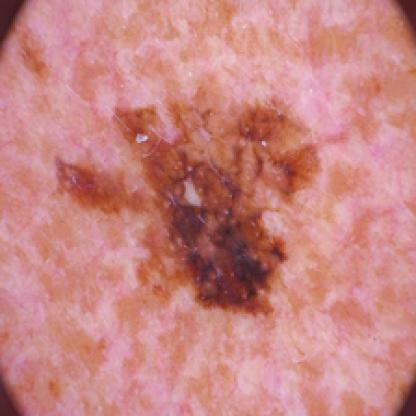Skin_Cancer-Malignant: (51, 97, 323, 322)
